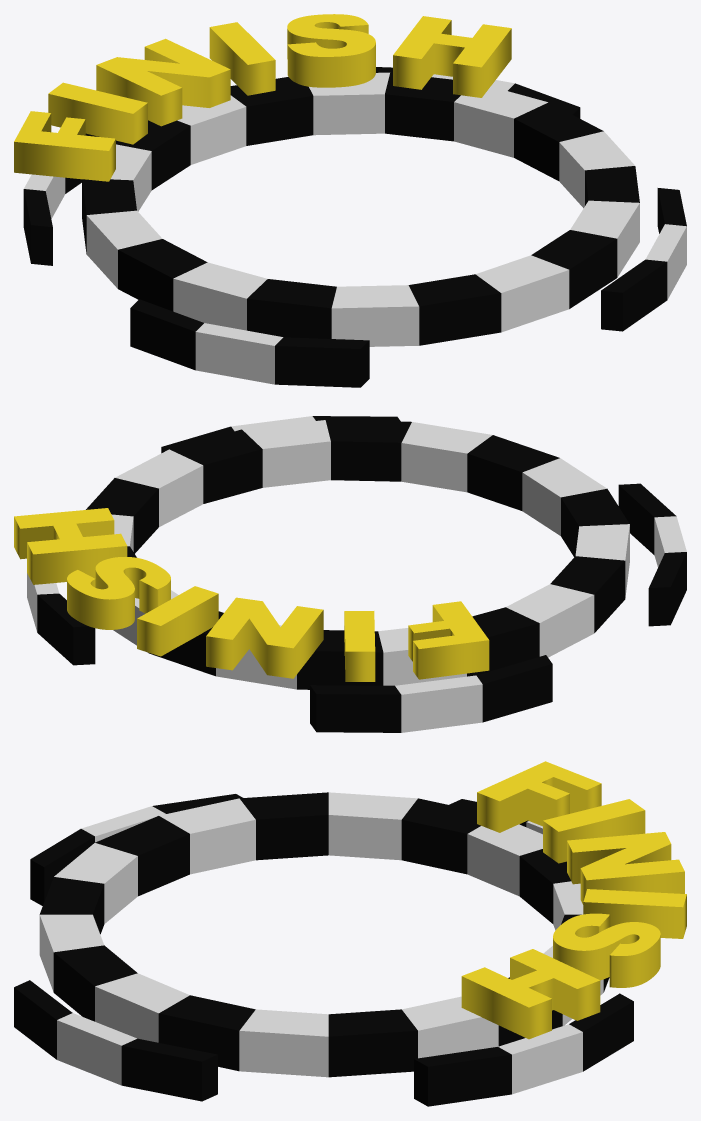
Rendered from finish.fbx.
The picture shows the model from 3 angles, top to bottom: view 1: azimuth 30°, elevation 25°; view 2: azimuth 150°, elevation 25°; view 3: azimuth 270°, elevation 25°; orthographic projection. The views are drawn at different scales.
Visible parts, largest first — view 1: Circle, finish, kollar; view 2: Circle, finish, kollar; view 3: Circle, finish, kollar.
Part boxes in pixels (x1=…): Circle: x1=82, y1=72, x2=639, y2=346; finish: x1=14, y1=14, x2=511, y2=181; kollar: x1=23, y1=67, x2=686, y2=387; Circle: x1=86, y1=420, x2=629, y2=689; finish: x1=14, y1=508, x2=489, y2=681; kollar: x1=27, y1=416, x2=686, y2=732; Circle: x1=39, y1=792, x2=609, y2=1077; finish: x1=461, y1=761, x2=686, y2=1039; kollar: x1=14, y1=794, x2=633, y2=1106.
Size of the model in its own units: 1657 by 253 by 1726.
